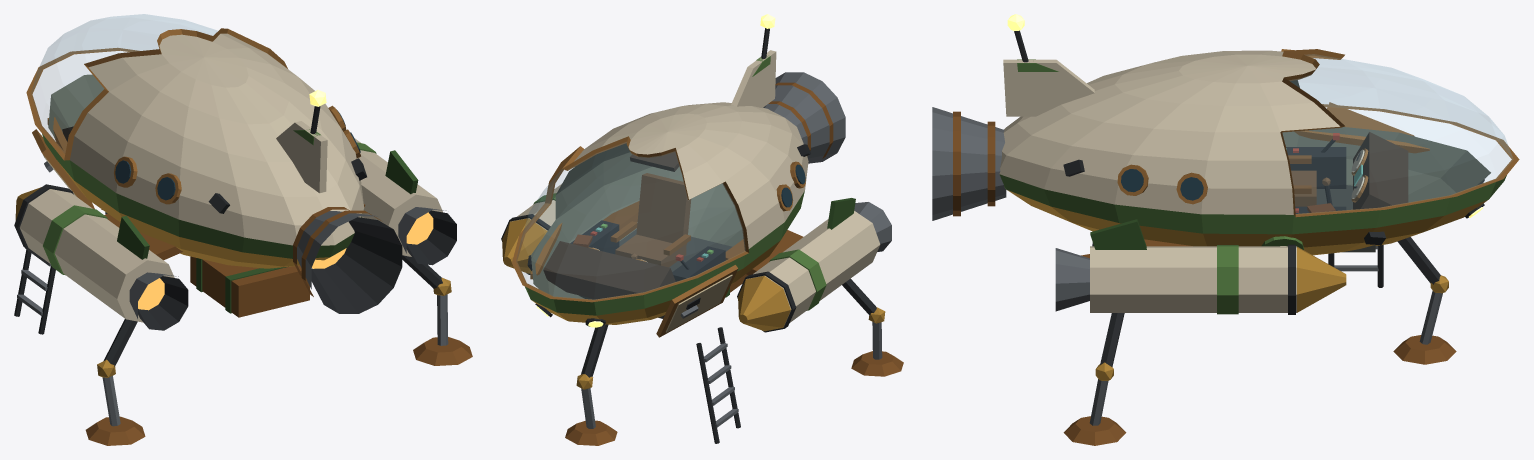
Rendered from nave.glb.
3 renders of one model, left to right at view 1: azimuth 30°, elevation 25°; view 2: azimuth 150°, elevation 25°; view 3: azimuth 270°, elevation 25°, orthographic. The views are drawn at different scales.
Visible parts, largest first — view 1: nave_Casco, nave_Cristal, nave_Motor; view 2: nave_Casco, nave_Cristal; view 3: nave_Casco, nave_Cristal.
Boxes of the visible parts, left/top/right/bottom form: nave_Casco: left=14, top=28, right=472, bottom=445; nave_Cristal: left=32, top=14, right=217, bottom=152; nave_Motor: left=138, top=90, right=433, bottom=310; nave_Casco: left=501, top=28, right=903, bottom=445; nave_Cristal: left=516, top=142, right=744, bottom=299; nave_Casco: left=932, top=30, right=1519, bottom=445; nave_Cristal: left=1283, top=54, right=1512, bottom=213.
Bounding box in the file's own units: 4.54 × 3.78 × 5.96.
